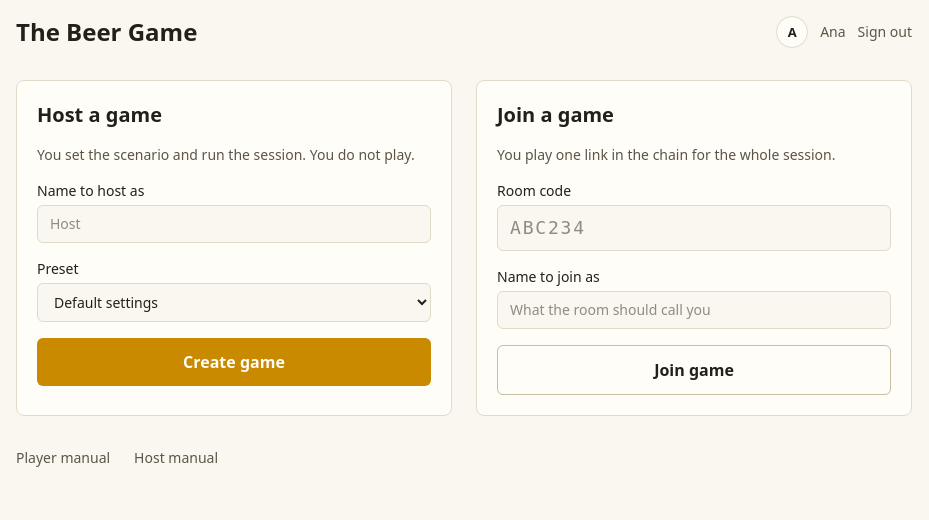
Test: joining a game reads GET /rooms/{code}/status and acts on the reason › CRITERION 5: an unknown code shows an inline error and does not navigate
Type "ZZZZZZ" into the field labelled "Room code" at x=694, y=228, box left=497, top=205, right=891, bottom=251
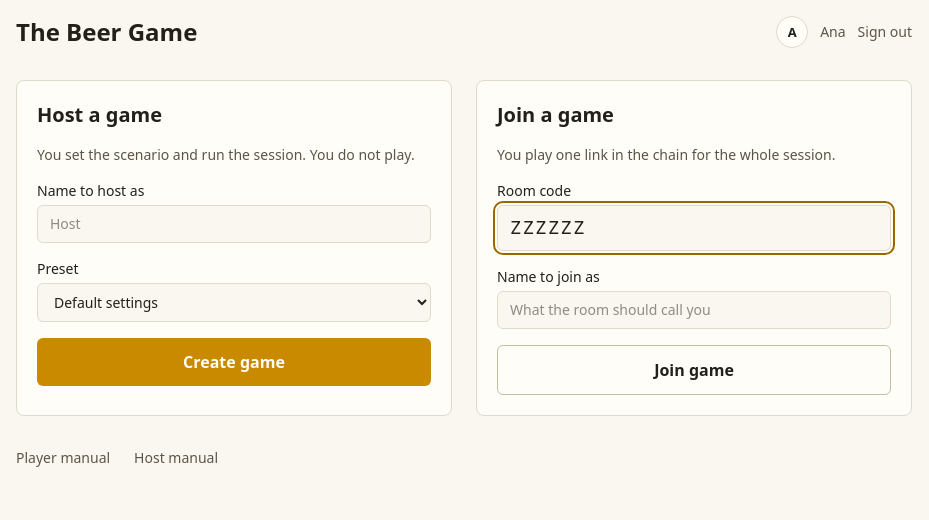
Type "Bea" into the field labelled "Name to join as" at x=694, y=310, box left=497, top=291, right=891, bottom=329
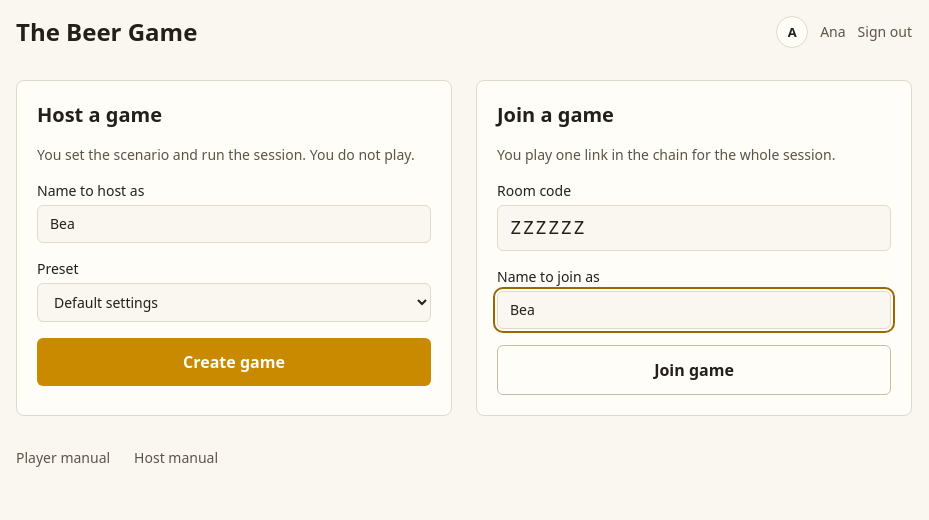
Click the button "Join game" at x=694, y=370, box left=497, top=345, right=891, bottom=395
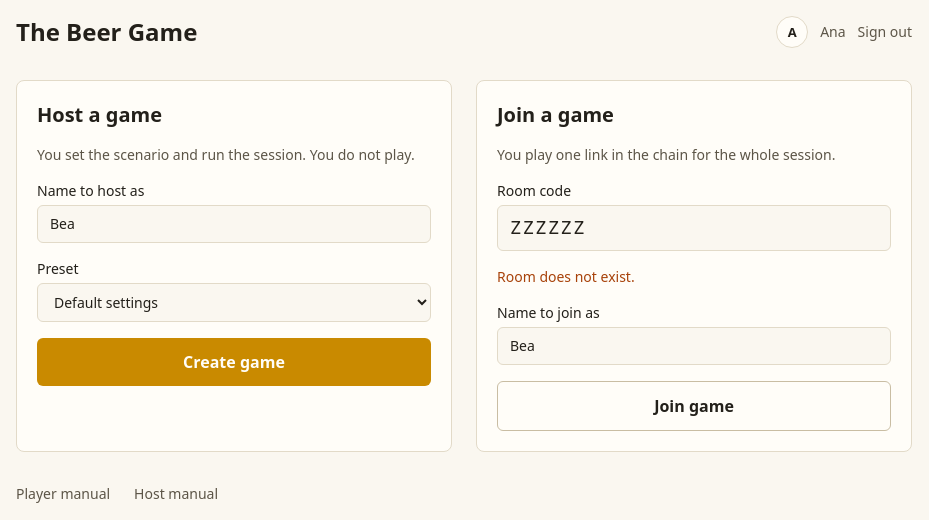
Expected: the text "Room does not exist" is shown, left=497, top=267, right=635, bottom=286
